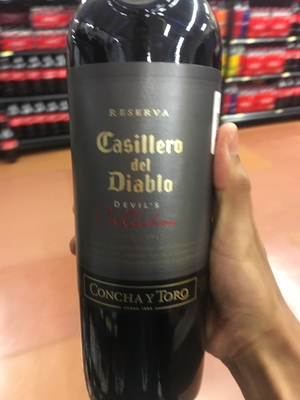casillero del diablo devils collection rojo: (64, 7, 212, 400)
